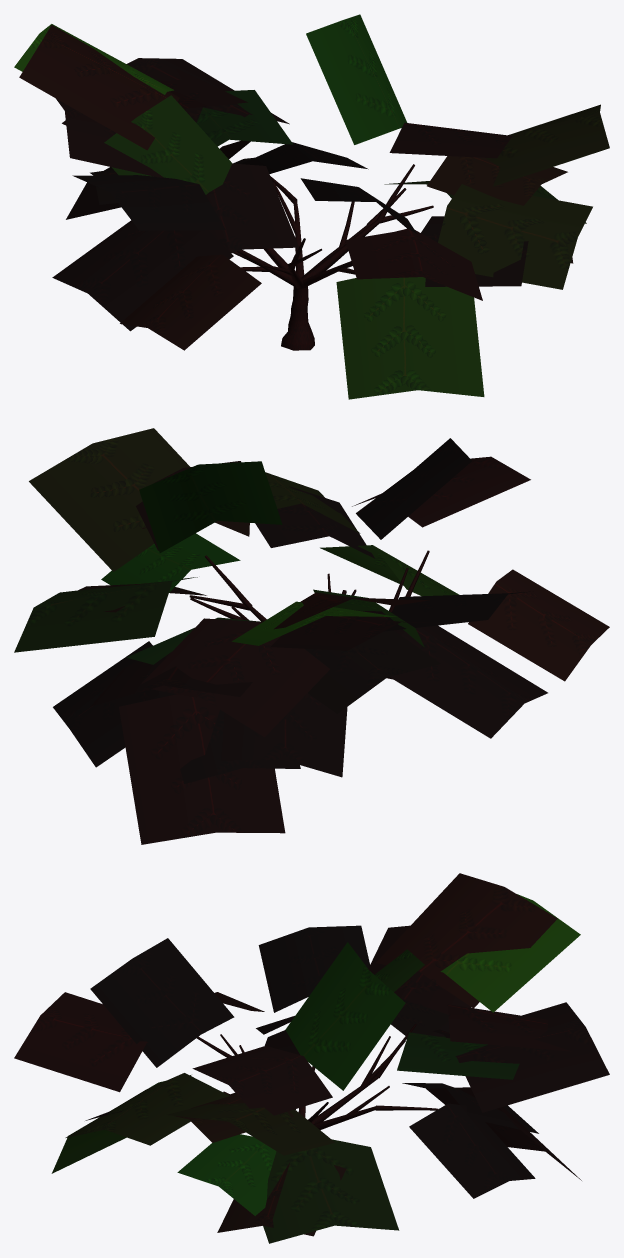
The model's file is veg_rain1_card.glb.
The picture shows the model from 3 angles, top to bottom: view 1: azimuth 30°, elevation 25°; view 2: azimuth 150°, elevation 25°; view 3: azimuth 270°, elevation 25°; orthographic projection. The views are drawn at different scales.
Parts seen in each view (by area): view 1: raintree_1; view 2: raintree_1; view 3: raintree_1.
Boxes of the visible parts, x1,y1,x2,y2 form: raintree_1: (14, 14, 609, 399); raintree_1: (14, 428, 609, 844); raintree_1: (14, 873, 609, 1243).
Size of the model in its own units: 23.12 by 12.65 by 26.31.
Materials: 2 (2 with a texture image).
